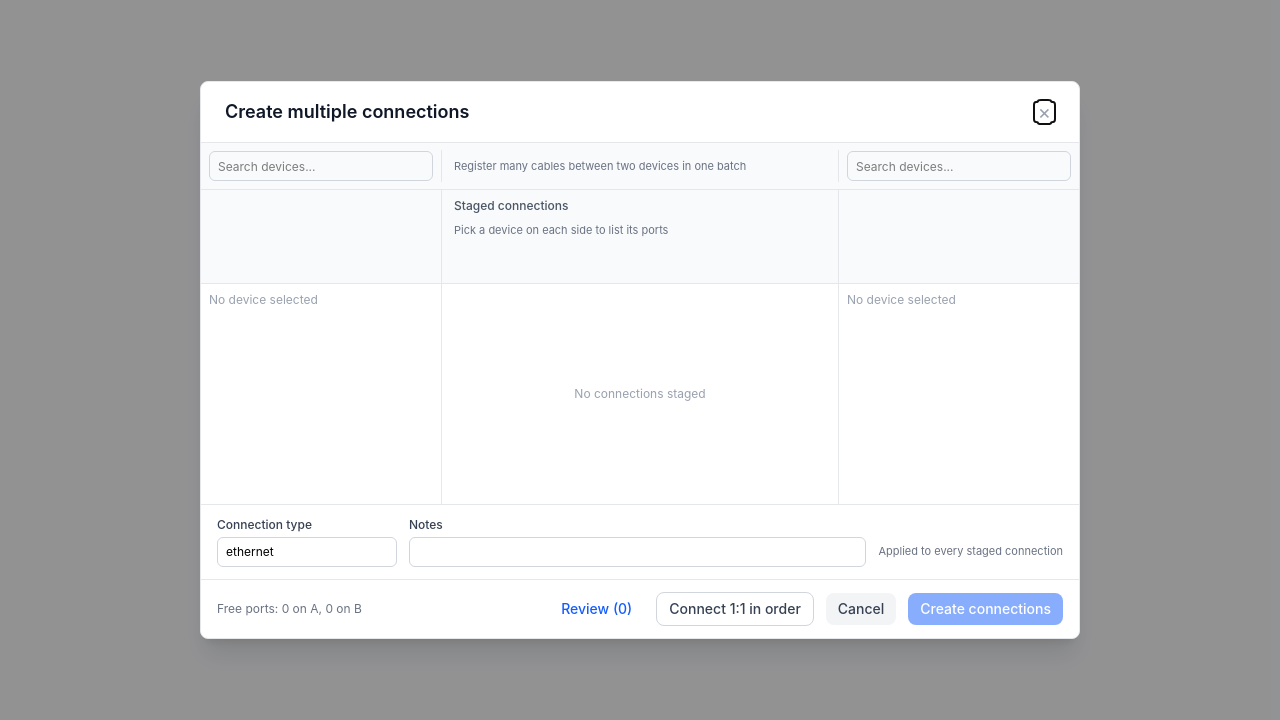
Test: MultiConnectDialog › Connect 1:1 in order pairs only the ports the active filters leave visible
Step 1. Type "de" into the 1st field with placeholder "Search devices..." → (321, 166), box [209, 151, 433, 181]
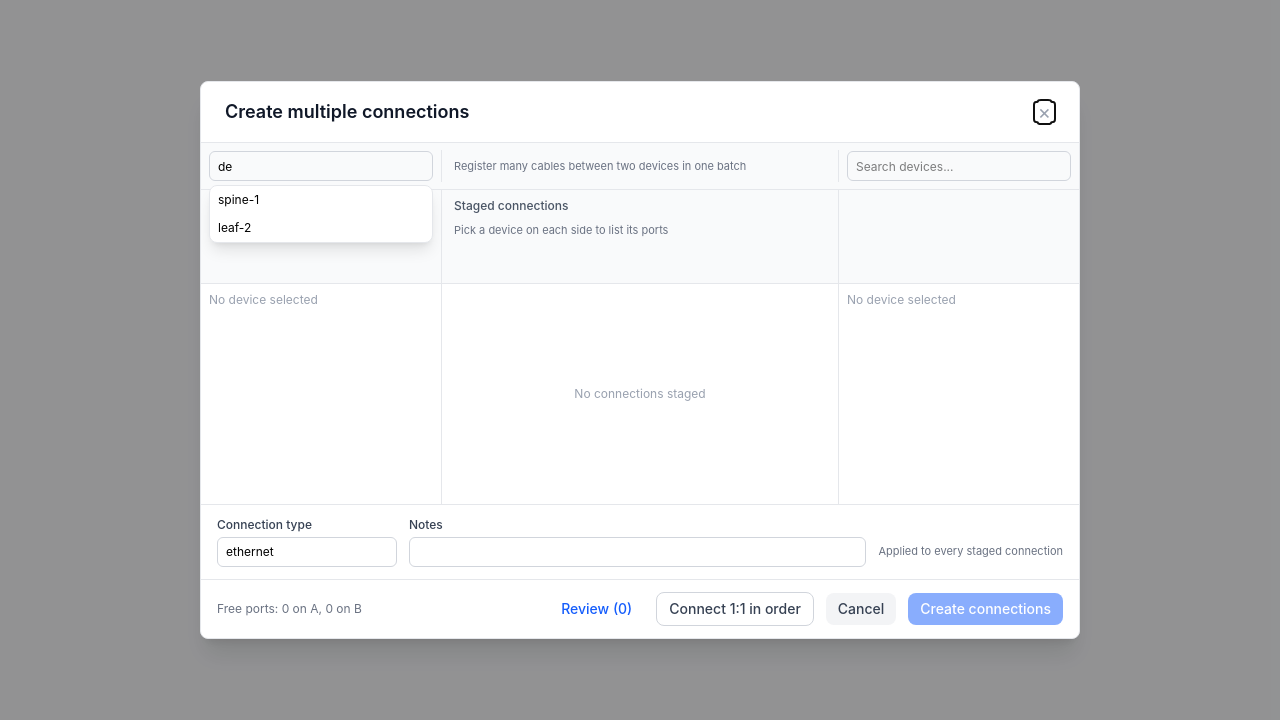
Step 2. Click the button "spine-1" → click(321, 200), box [210, 186, 432, 214]
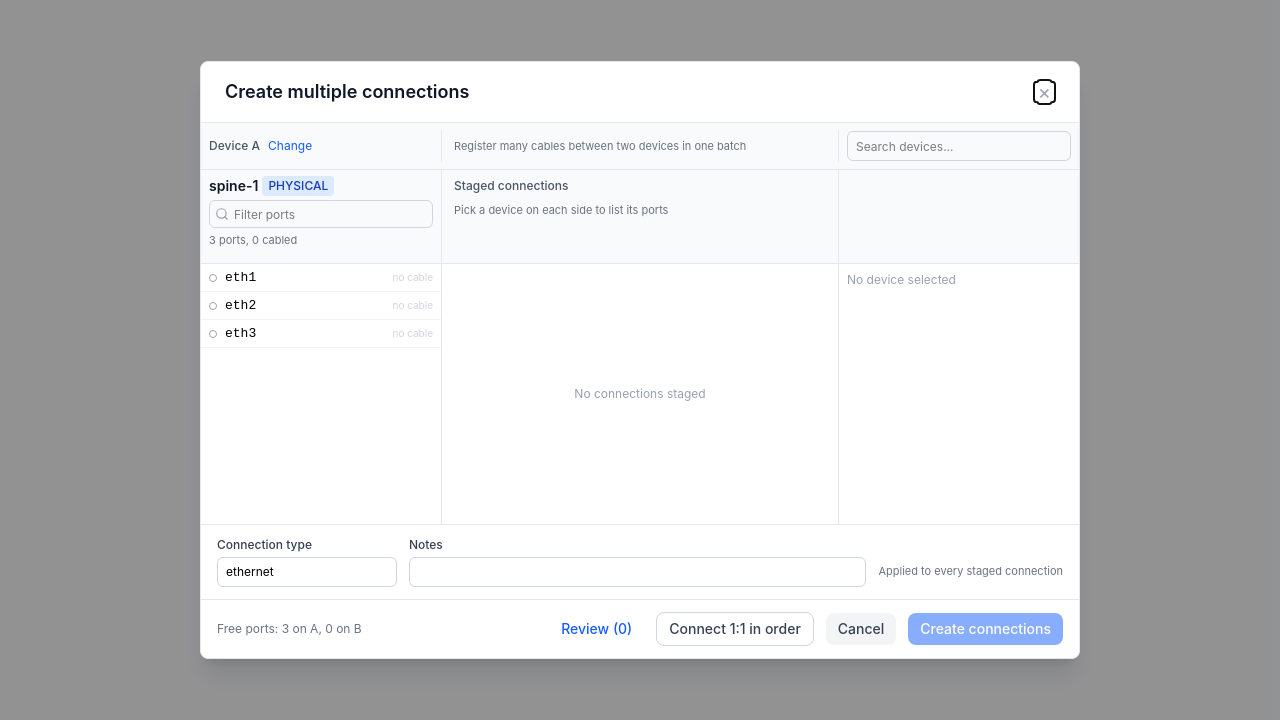
Step 3. Type "de" into the field with placeholder "Search devices..." → (959, 146), box [847, 131, 1071, 161]
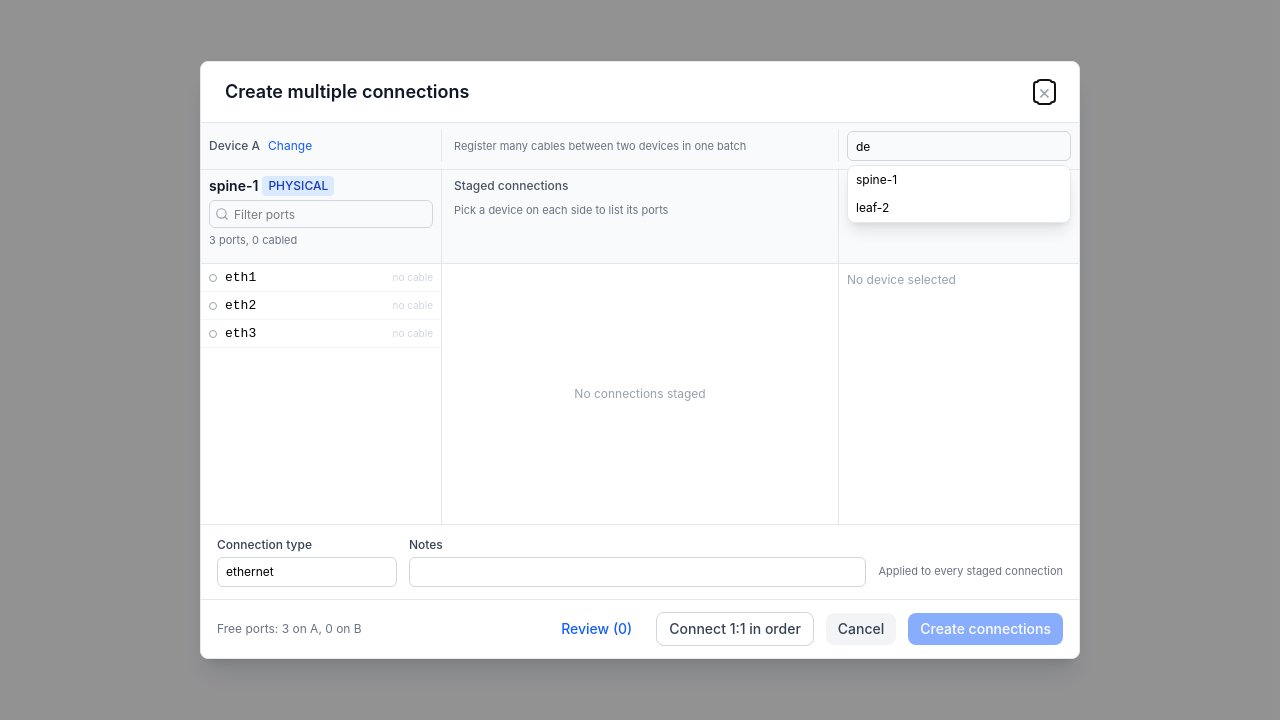
Step 4. Click the button "leaf-2" → click(959, 208), box [848, 194, 1070, 222]
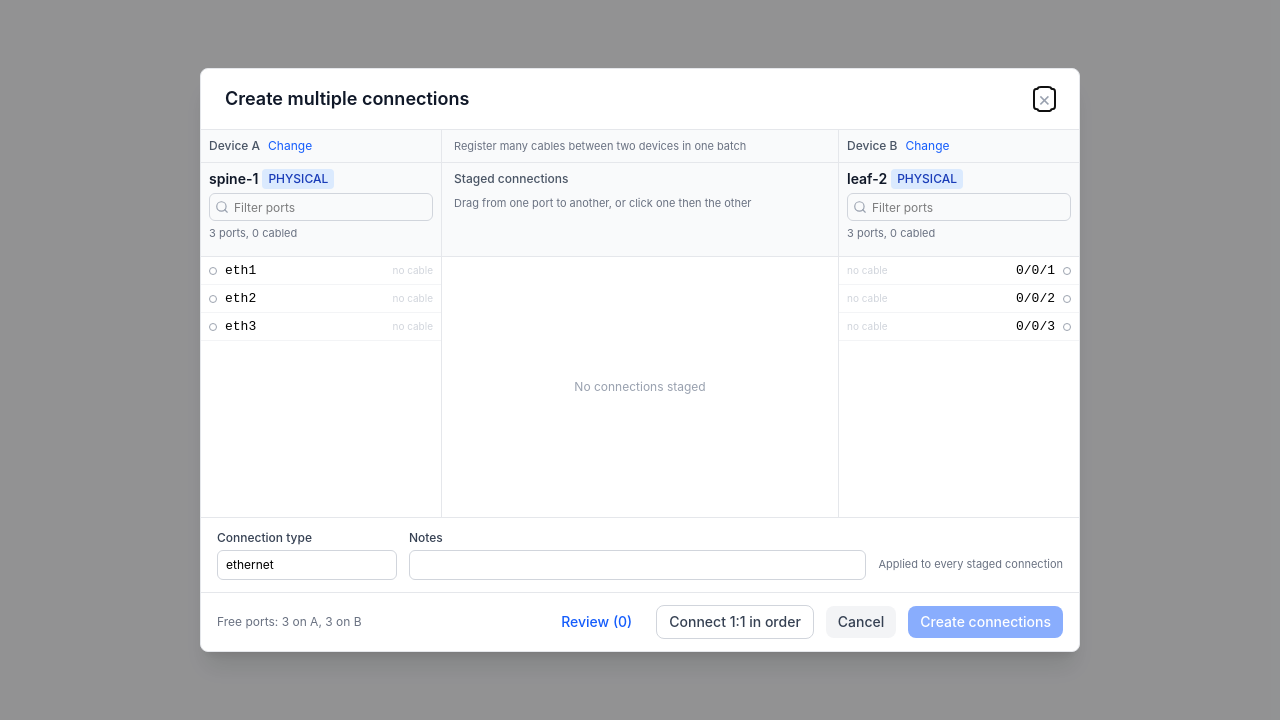
Step 5. Type "eth1" into the field named "Filter source ports" → (321, 207), box [209, 193, 433, 221]
Step 6. Type "0/0/1" into the field named "Filter target ports" → (959, 207), box [847, 193, 1071, 221]
Step 7. Click the button "Connect 1:1 in order" → click(735, 622), box [656, 605, 814, 639]
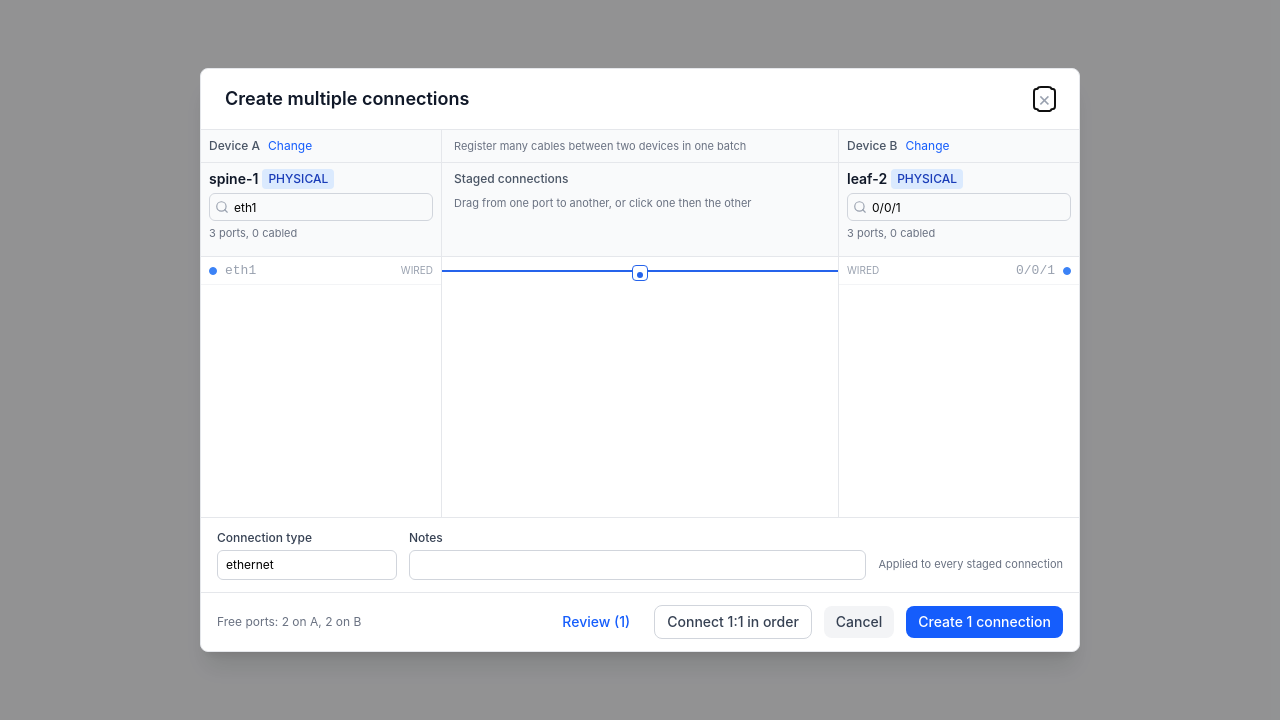
Expected: the button "Create 1 connection" is enabled, [906, 606, 1063, 638]
Step 8. Click the button "Review (1)" → click(596, 622), box [550, 606, 642, 638]
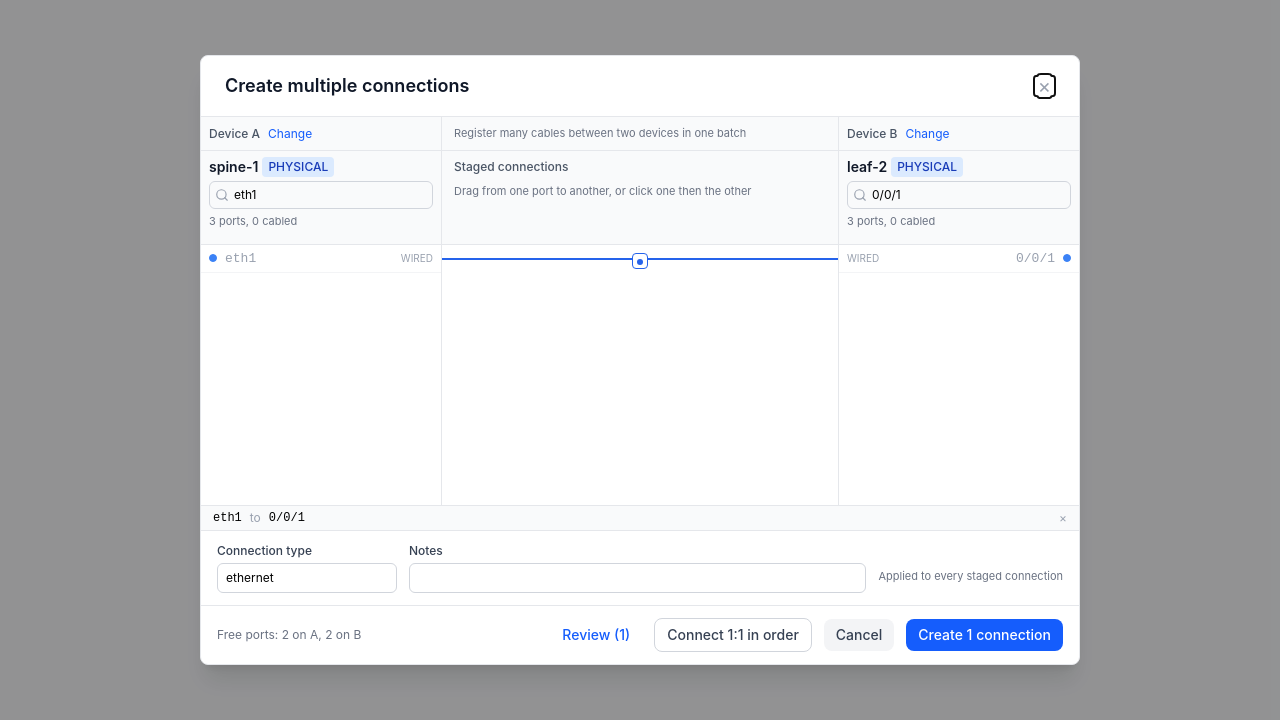
Expected: the 2nd text "eth1" is shown, [213, 510, 242, 526]
Expected: the 2nd text "0/0/1" is shown, [269, 510, 305, 526]
